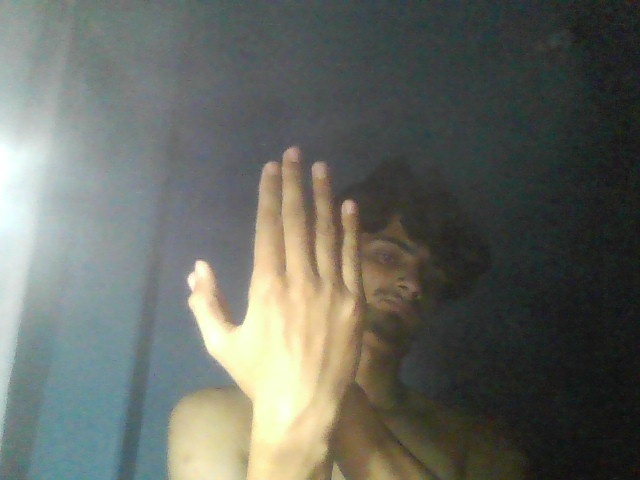ThankYou: (185, 142, 418, 478)
